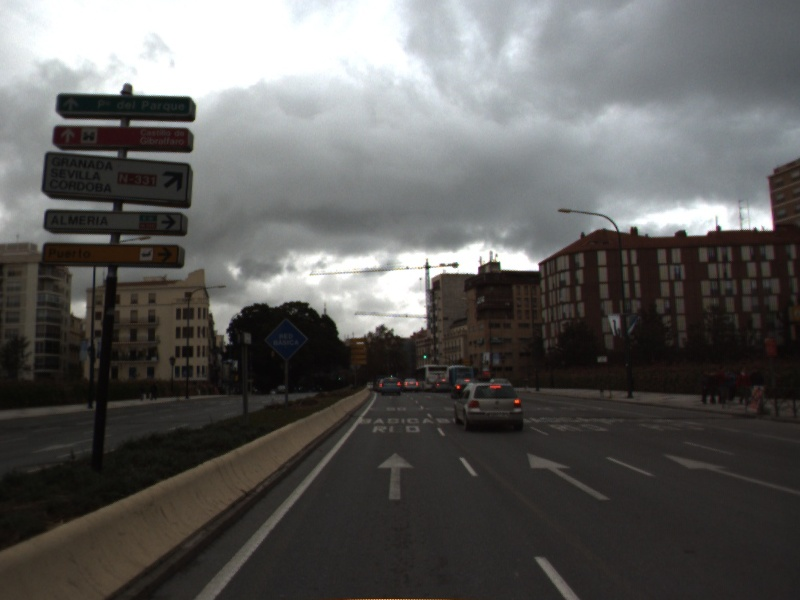STRAIGHT: (662, 452, 800, 496), (524, 450, 614, 503), (374, 450, 418, 502)
